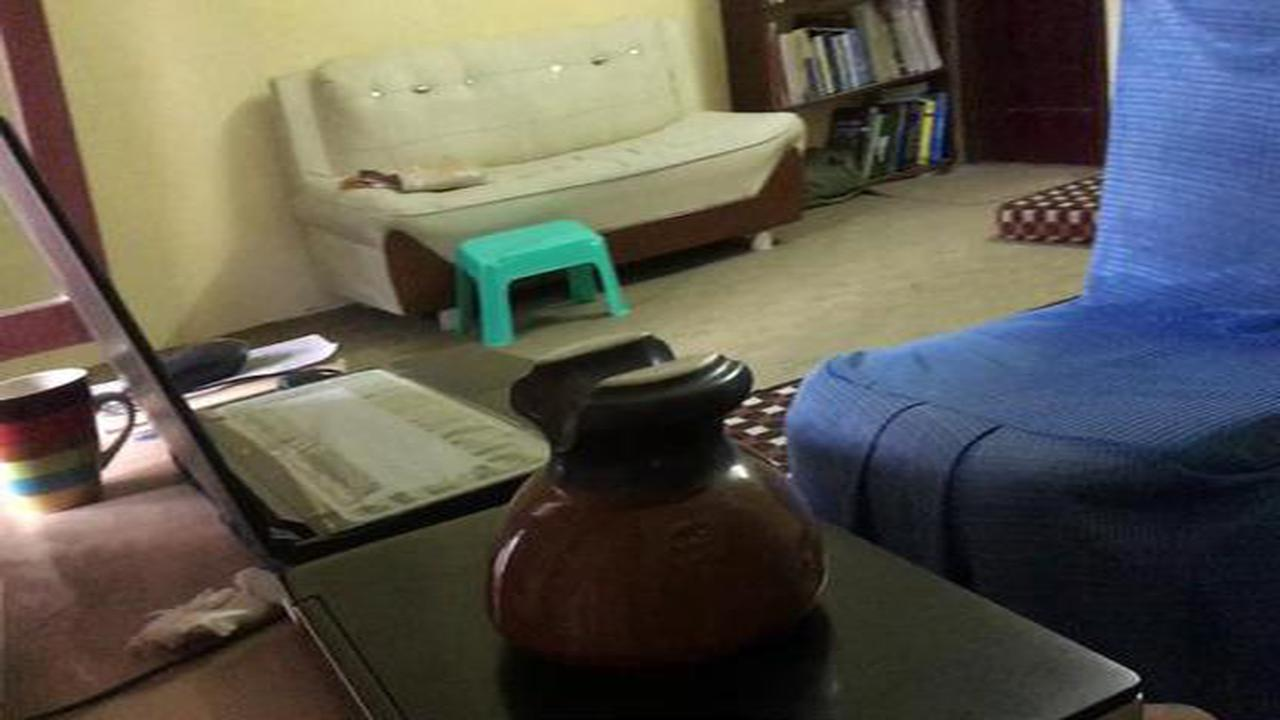insulator_pin: (465, 328, 850, 688)
